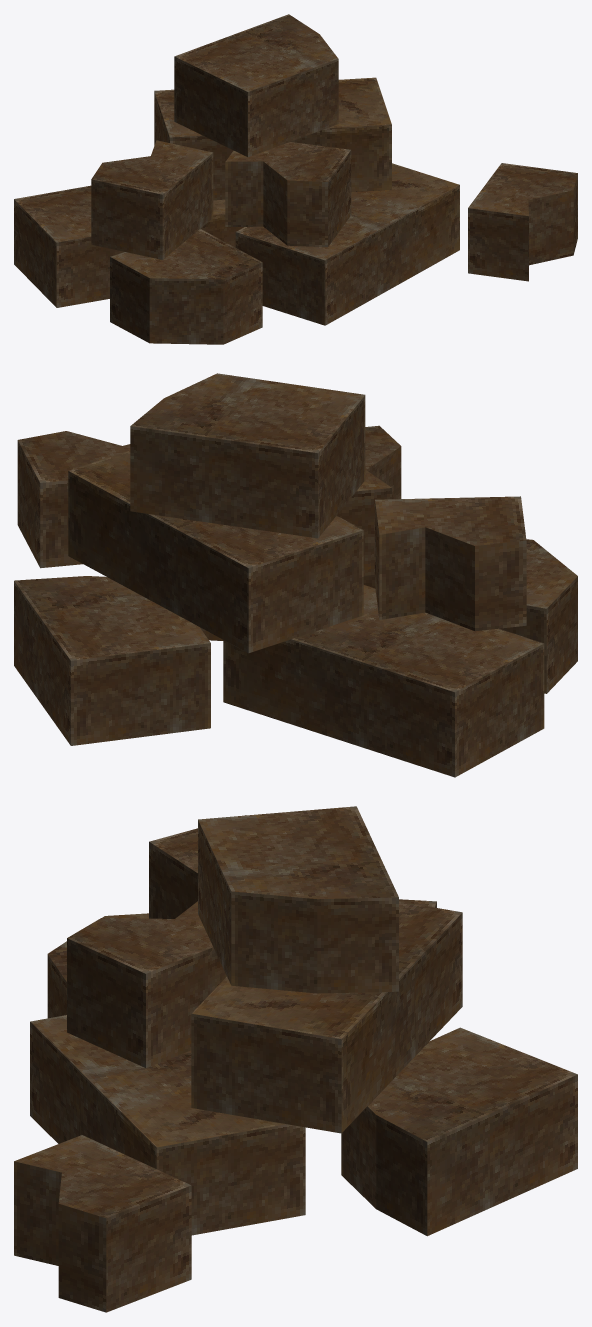
Rendered from bricks_stacked_mx_1_0.glb.
3 renders of one model, top to bottom at view 1: azimuth 30°, elevation 25°; view 2: azimuth 150°, elevation 25°; view 3: azimuth 270°, elevation 25°, orthographic. The views are drawn at different scales.
Parts seen in each view (by area): view 1: bricks_stacked_mx_1_0; view 2: bricks_stacked_mx_1_0; view 3: bricks_stacked_mx_1_0.
Boxes of the visible parts, bbox=[...] form: bricks_stacked_mx_1_0: bbox=[14, 14, 577, 344]; bricks_stacked_mx_1_0: bbox=[14, 373, 577, 777]; bricks_stacked_mx_1_0: bbox=[14, 806, 577, 1312].
Bounding box in the file's own units: 0.667 × 0.27 × 0.4878.
Materials: 1 (1 with a texture image).
